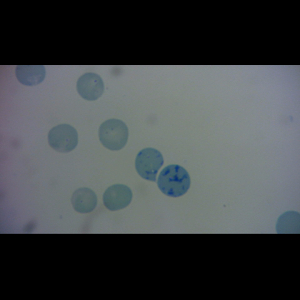aggregate reticulocyte: (155, 163, 192, 199), (133, 146, 165, 182)
erythrocyte: (47, 123, 80, 154), (101, 183, 134, 212), (75, 72, 106, 102), (69, 187, 99, 214)
punctate reticulocyte: (97, 118, 130, 152)
